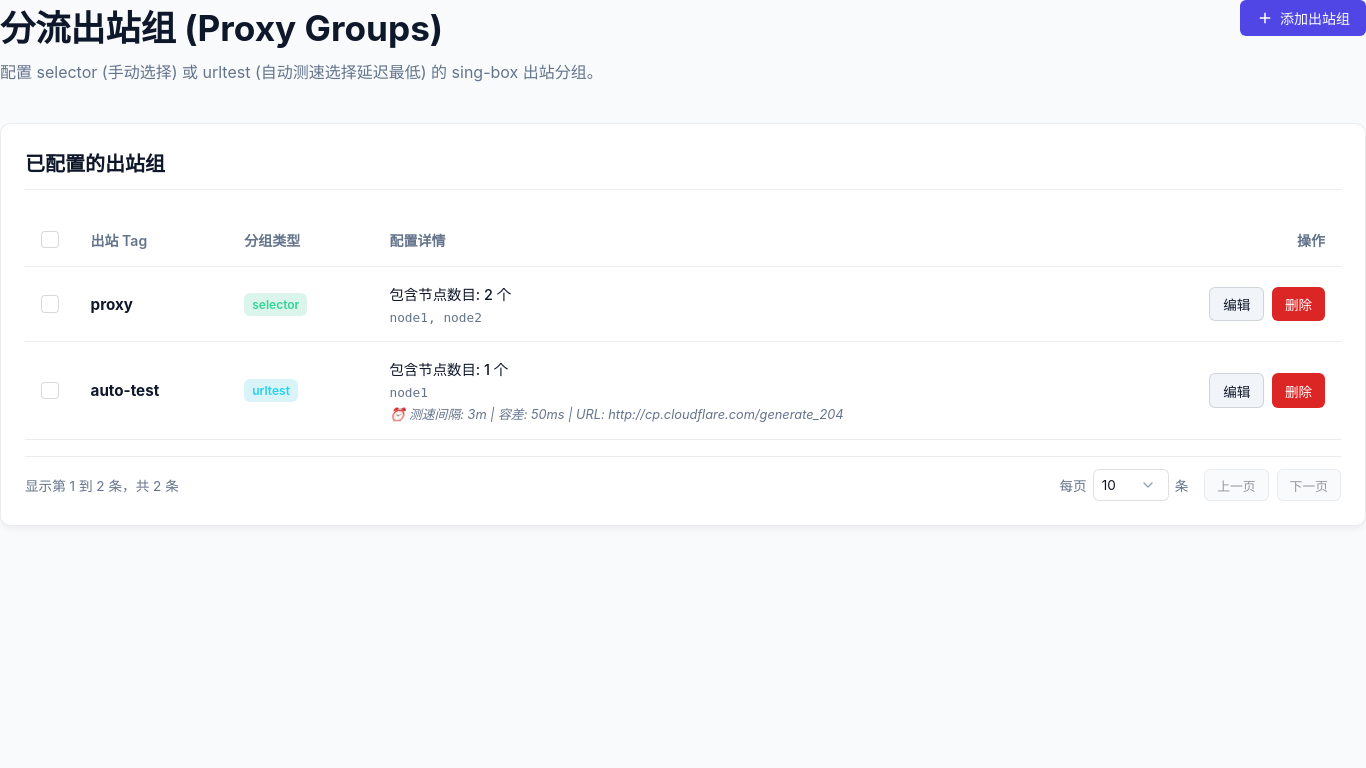
GroupsView - 分流出站组管理 › 节点/出站组选择框增强筛选功能 › 左右选择框都显示节点所属订阅名称
Click the button "添加出站组" at (1303, 18), box [1240, 0, 1365, 36]
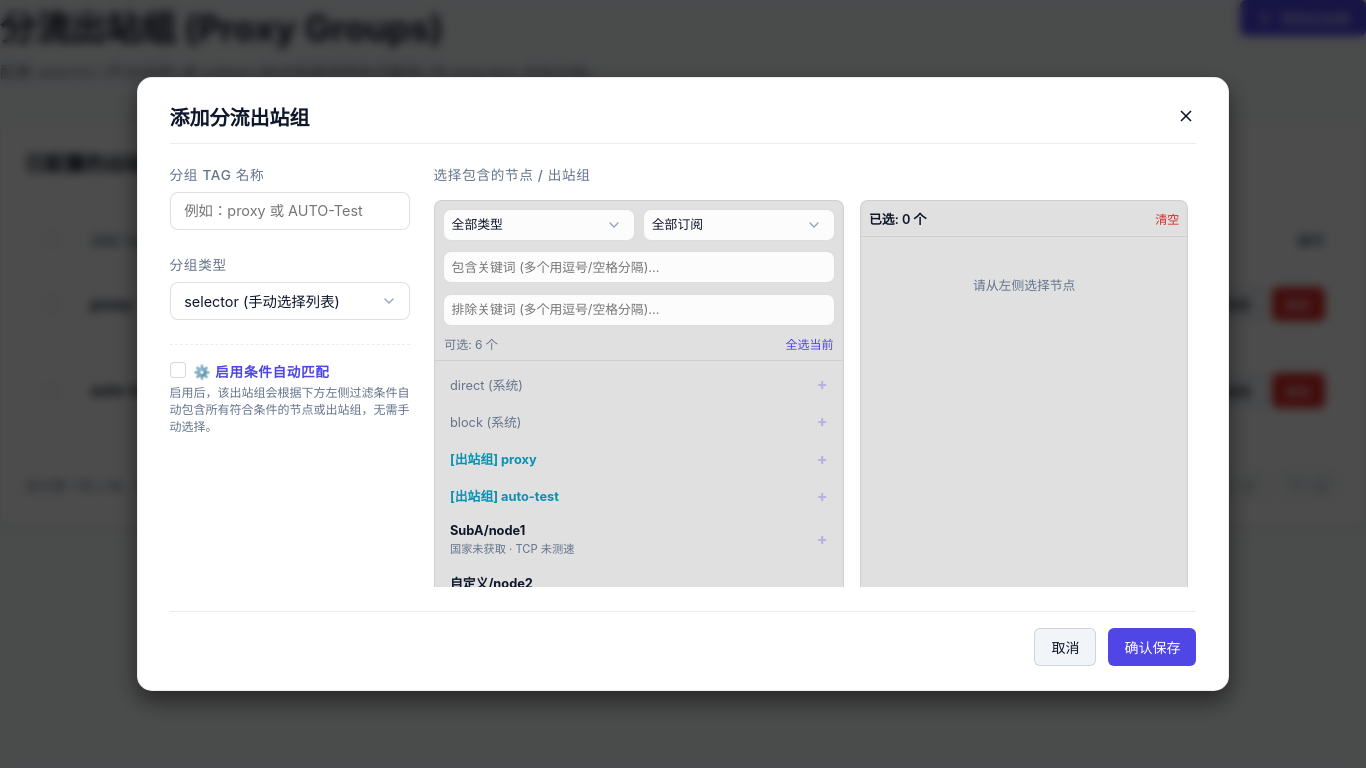
Check: the element with class "transfer-available-item" shows "SubA/node1", box [450, 523, 525, 538]
Click the element with class "transfer-available-item" showing "SubA/node1 国家未获取 · TCP 未测速 +" at (488, 530), box [441, 516, 837, 562]
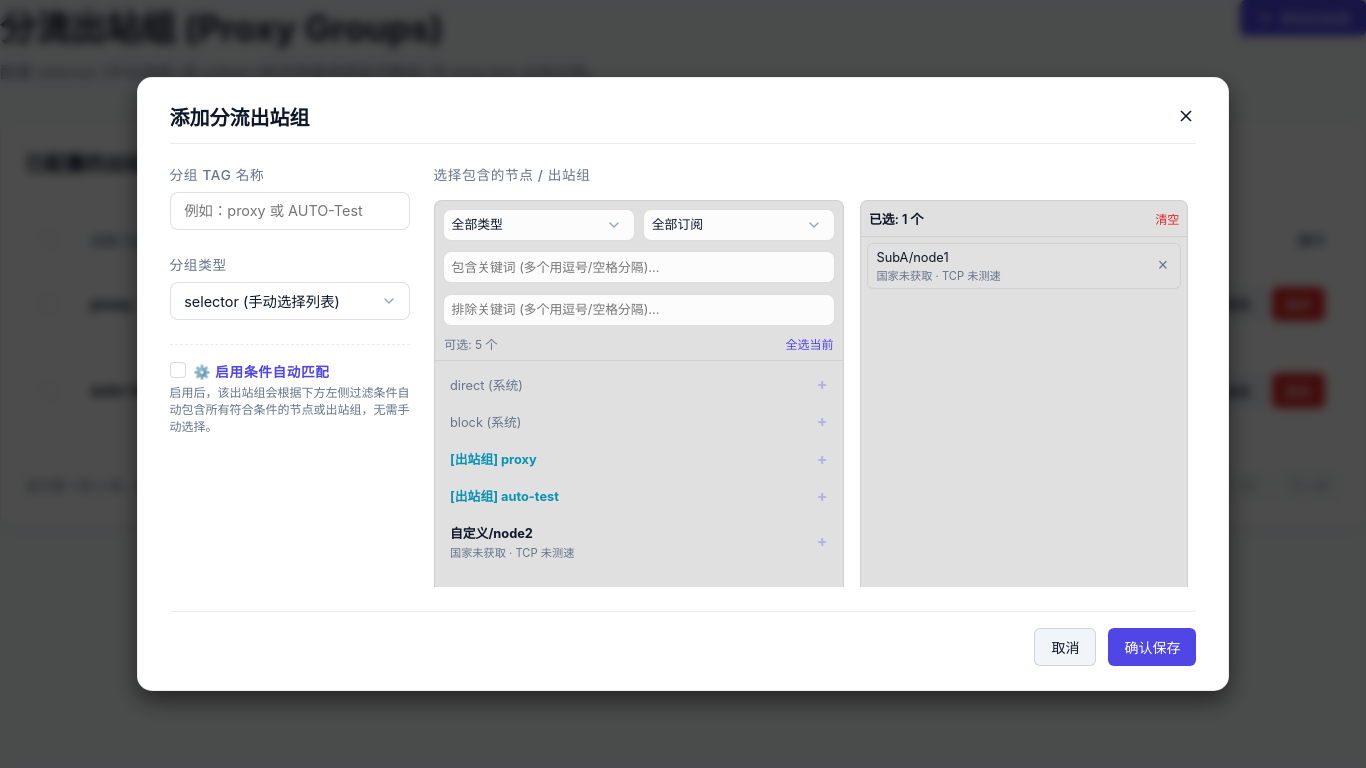
Check: the element showing "SubA/node1 国家未获取 · TCP 未测速 ×" is shown, box [867, 243, 1181, 289]
